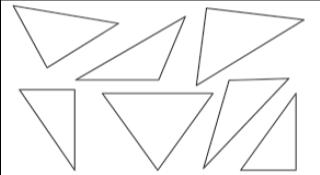Triangle: (102, 94, 213, 171), (196, 8, 303, 84), (204, 80, 287, 168), (11, 4, 118, 69), (76, 19, 184, 81), (17, 89, 75, 169), (239, 94, 296, 171)
